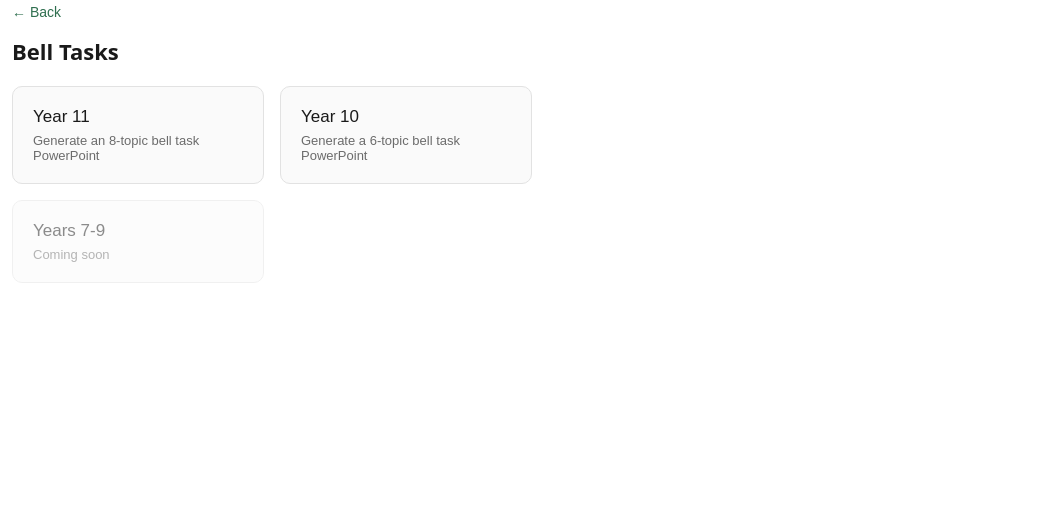
Test: BellTasksView › shows 6 searchable topic boxes after choosing Year 10, with tier labels on options
The width and height of the screenshot is (1048, 507).
Click the text "Year 10" at [330, 116], box [301,107,359,126]
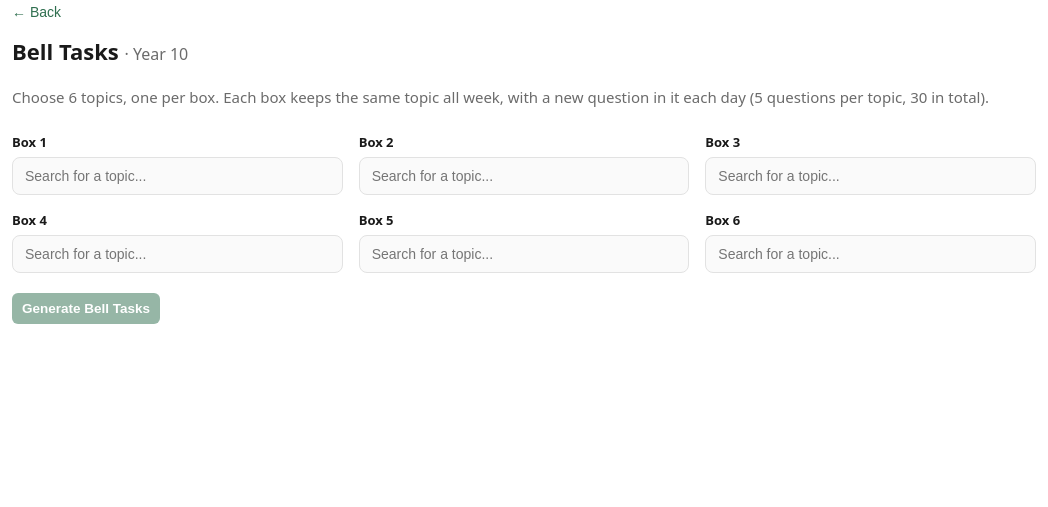
Check: the number of dropdowns is 6
Click the dropdown labelled "Box 1" at [177, 176], box [12,156,343,194]
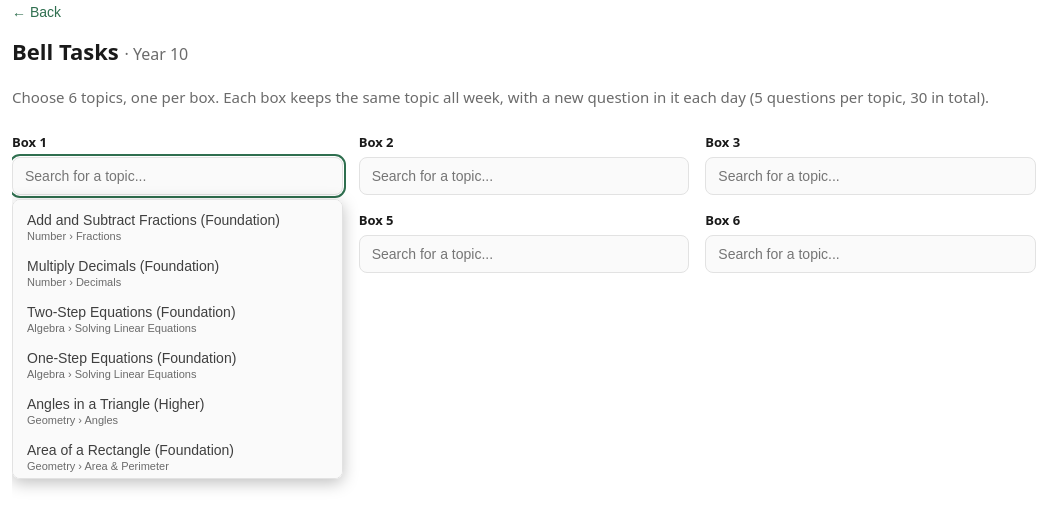
Check: the text "Angles in a Triangle (Higher)" is shown, box [27,396,204,412]
Check: the text "Area of a Rectangle (Foundation)" is shown, box [27,442,234,458]
